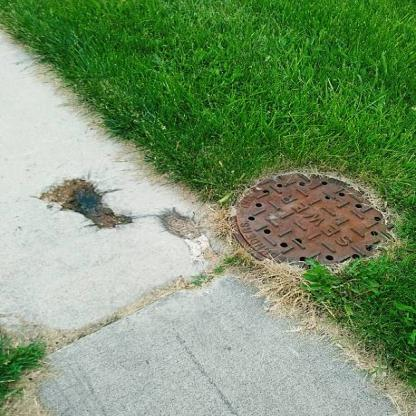manholes: (224, 154, 401, 282)
